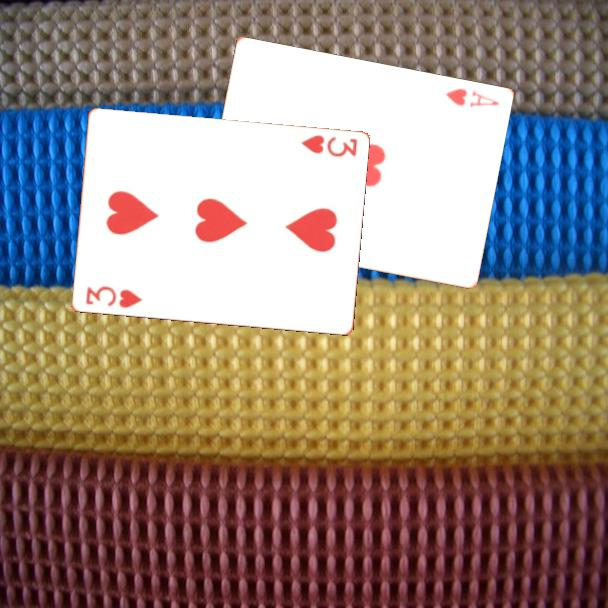h01: (442, 85, 502, 111)
h03: (82, 283, 145, 311), (297, 132, 360, 160)
